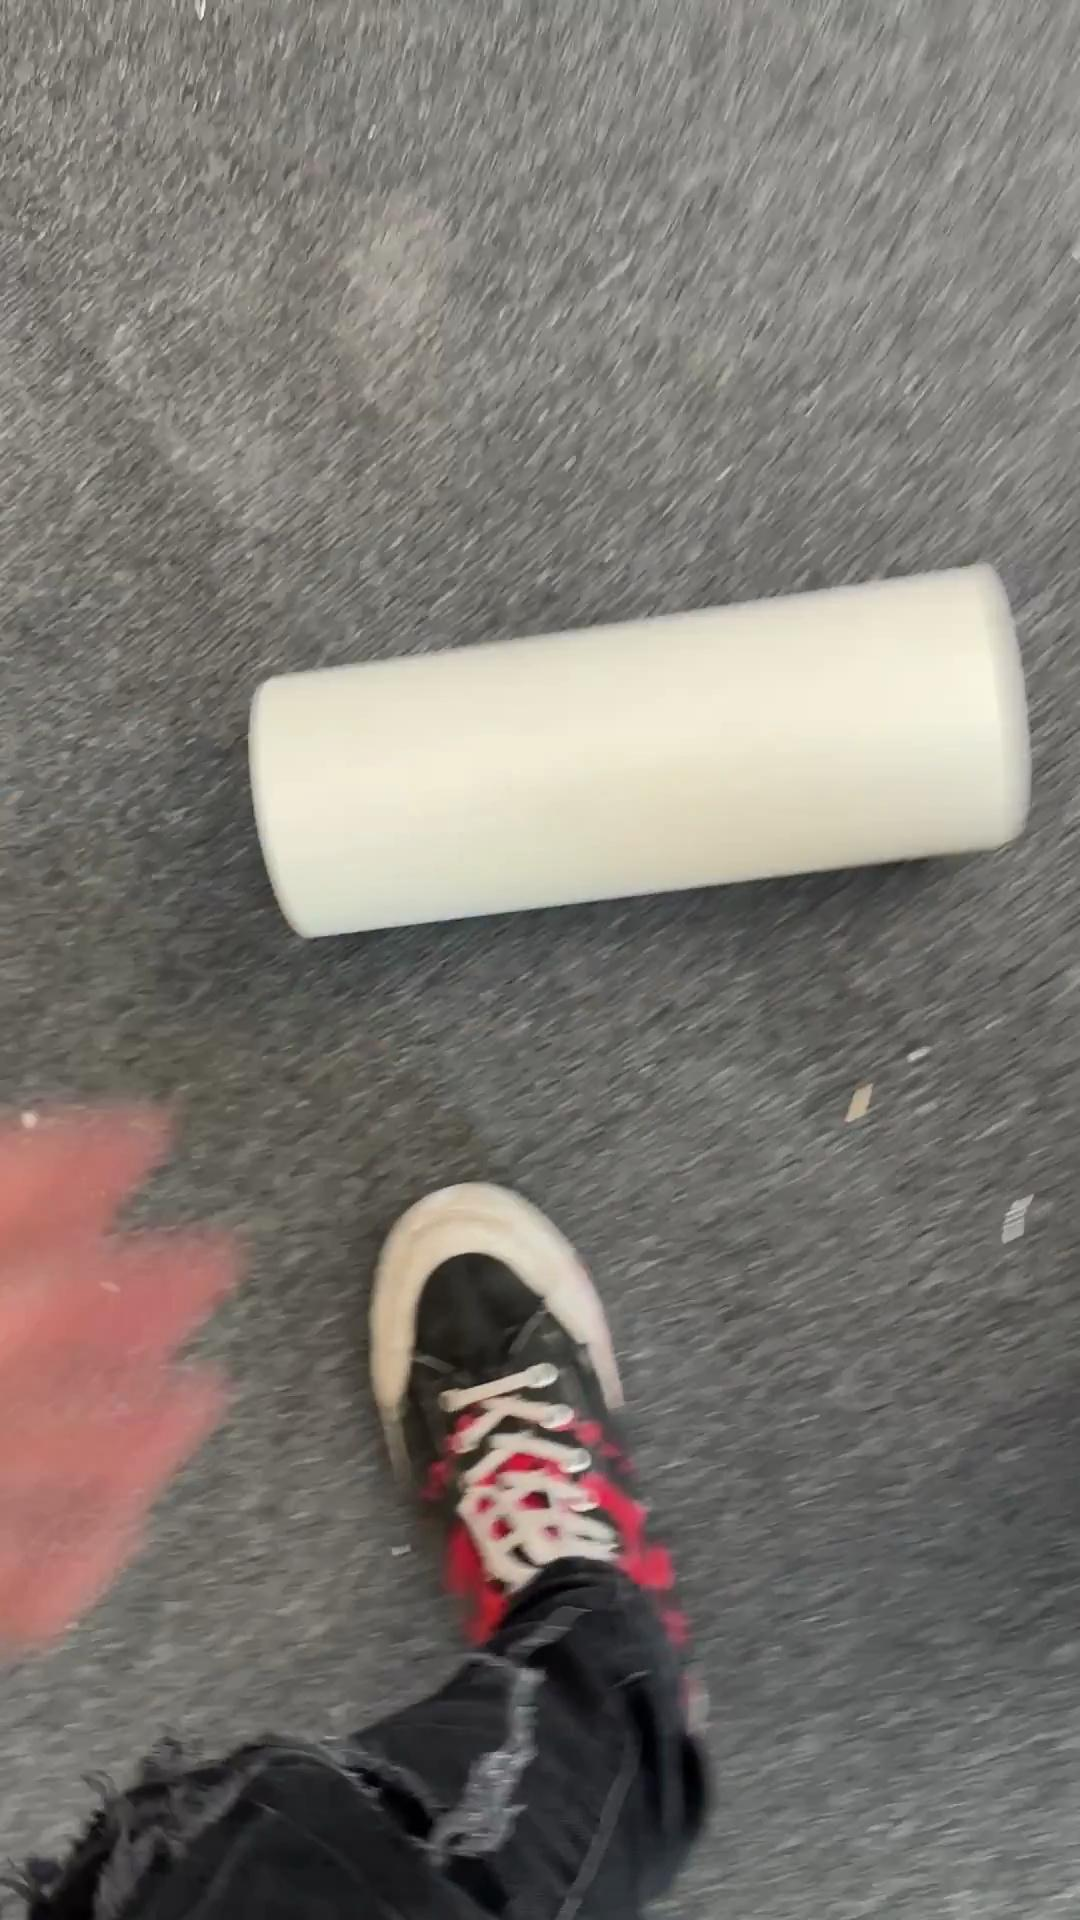CORAL: (244, 556, 1033, 942)
